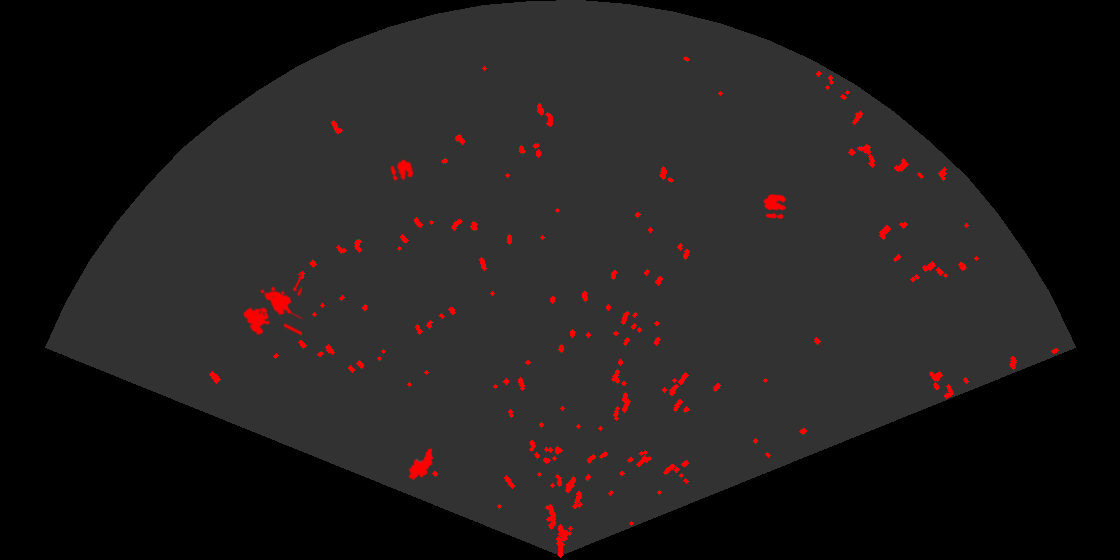AUV: (407, 446, 435, 482)
ball: (762, 193, 788, 221), (389, 158, 415, 183)
cage: (242, 272, 302, 338)
